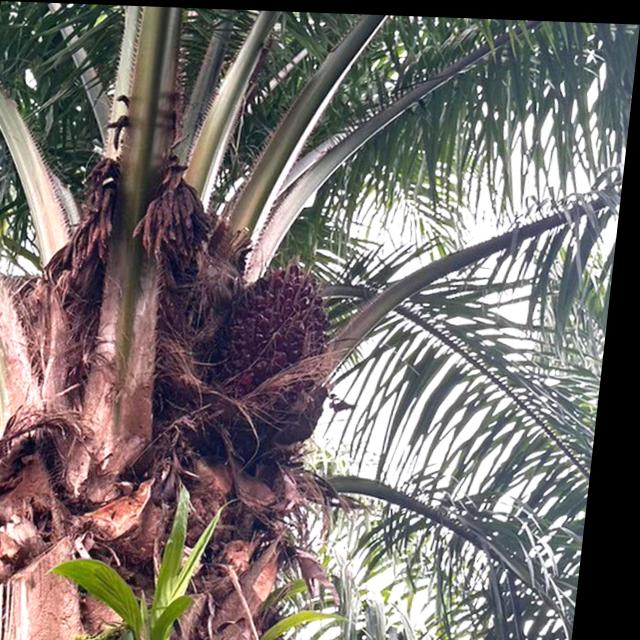ripe: (213, 252, 346, 430)
